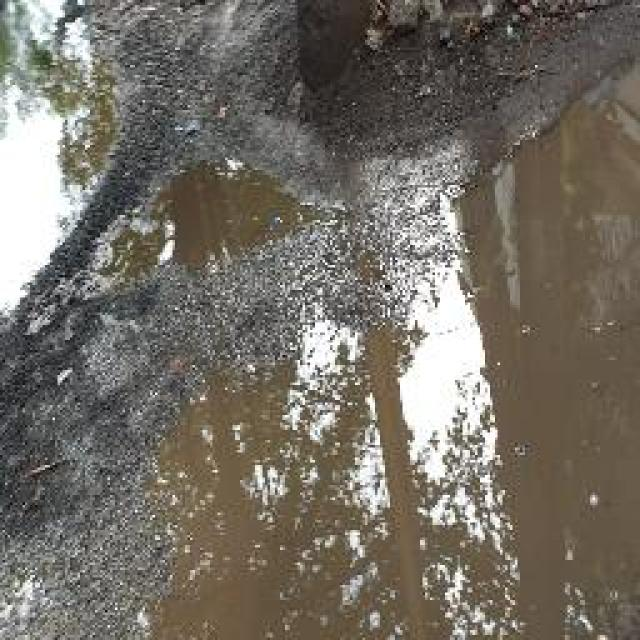stagnation: (68, 37, 640, 636), (73, 126, 377, 326)
